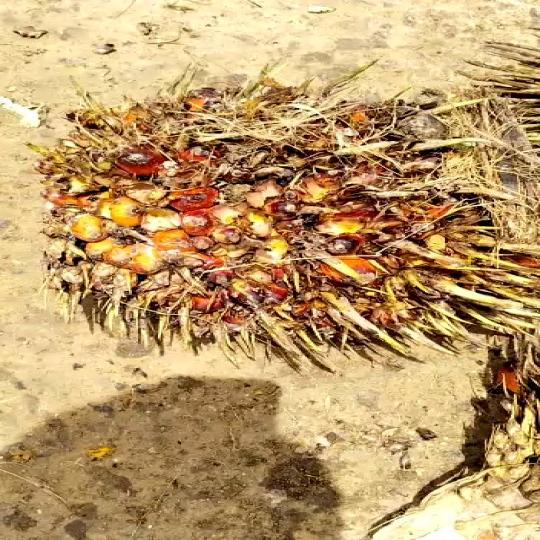terlalu masak: (10, 65, 540, 420)
